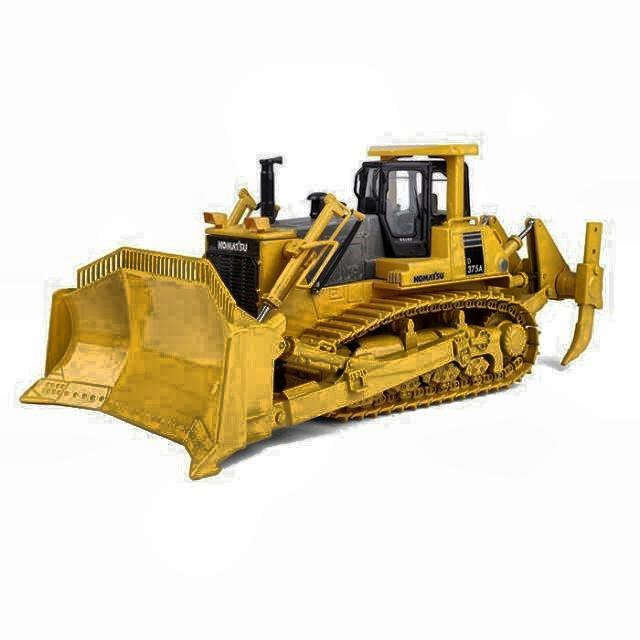bull_dozer/loader/grader: (19, 128, 613, 478)
